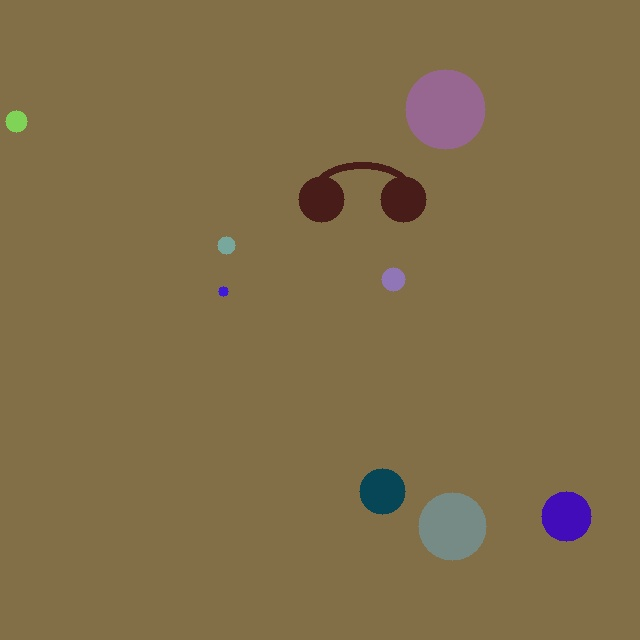over_ear: (294, 148, 430, 226)
